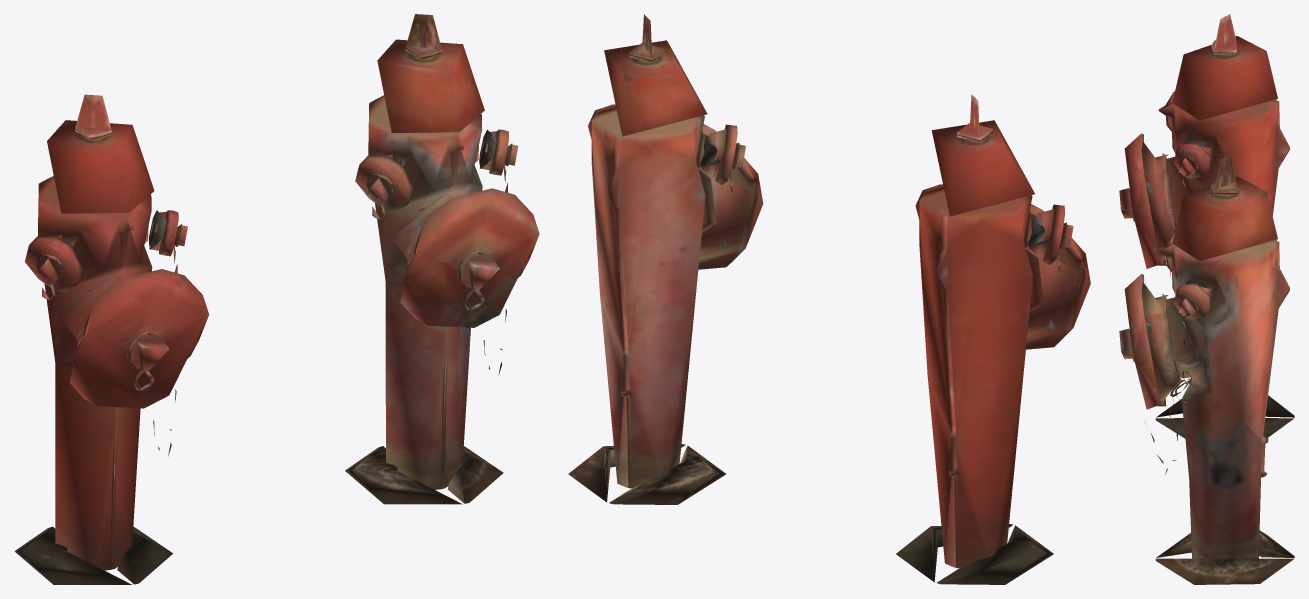
File: fire_hydrant.glb
The picture shows the model from 3 angles, left to right: view 1: azimuth 30°, elevation 25°; view 2: azimuth 150°, elevation 25°; view 3: azimuth 270°, elevation 25°; orthographic projection. The views are drawn at different scales.
Parts seen in each view (by area): view 1: fire_hydrant_aged, fire_hydrant, fire_hydrant_cap_01_aged, fire_hydrant_cap_01, fire_hydrant_cap_03_aged, fire_hydrant_cap_03, fire_hydrant_cap_02_aged, fire_hydrant_cap_02, fire_hydrant_chain, fire_hydrant_chain_aged; view 2: fire_hydrant_aged, fire_hydrant, fire_hydrant_cap_01_aged, fire_hydrant_cap_01, fire_hydrant_cap_03_aged, fire_hydrant_cap_03; view 3: fire_hydrant_aged, fire_hydrant, fire_hydrant_cap_01, fire_hydrant_cap_01_aged, fire_hydrant_cap_02_aged, fire_hydrant_cap_02, fire_hydrant_chain_aged.
Part boxes in pixels (x1,y1,x2,y2): fire_hydrant_aged: (345,14,503,504); fire_hydrant: (14,94,172,584); fire_hydrant_cap_01_aged: (400,188,539,327); fire_hydrant_cap_01: (70,269,209,408); fire_hydrant_cap_03_aged: (355,155,414,211); fire_hydrant_cap_03: (25,236,83,292); fire_hydrant_cap_02_aged: (489,129,518,175); fire_hydrant_cap_02: (159,210,187,256); fire_hydrant_chain: (42,227,177,456); fire_hydrant_chain_aged: (371,146,508,375); fire_hydrant_aged: (568,14,750,504); fire_hydrant: (896,94,1078,584); fire_hydrant_cap_01_aged: (698,124,763,269); fire_hydrant_cap_01: (1026,204,1090,349); fire_hydrant_cap_03_aged: (715,124,745,184); fire_hydrant_cap_03: (1042,204,1073,264); fire_hydrant_aged: (1141,155,1294,584); fire_hydrant: (1141,14,1294,438); fire_hydrant_cap_01: (1119,133,1166,268); fire_hydrant_cap_01_aged: (1119,274,1166,409); fire_hydrant_cap_02_aged: (1173,283,1210,319); fire_hydrant_cap_02: (1174,142,1210,178); fire_hydrant_chain_aged: (1144,294,1199,474).
Size of the model in its own units: 0.8728 by 0.7992 by 0.3163.
Materials: 2 (2 with a texture image).
